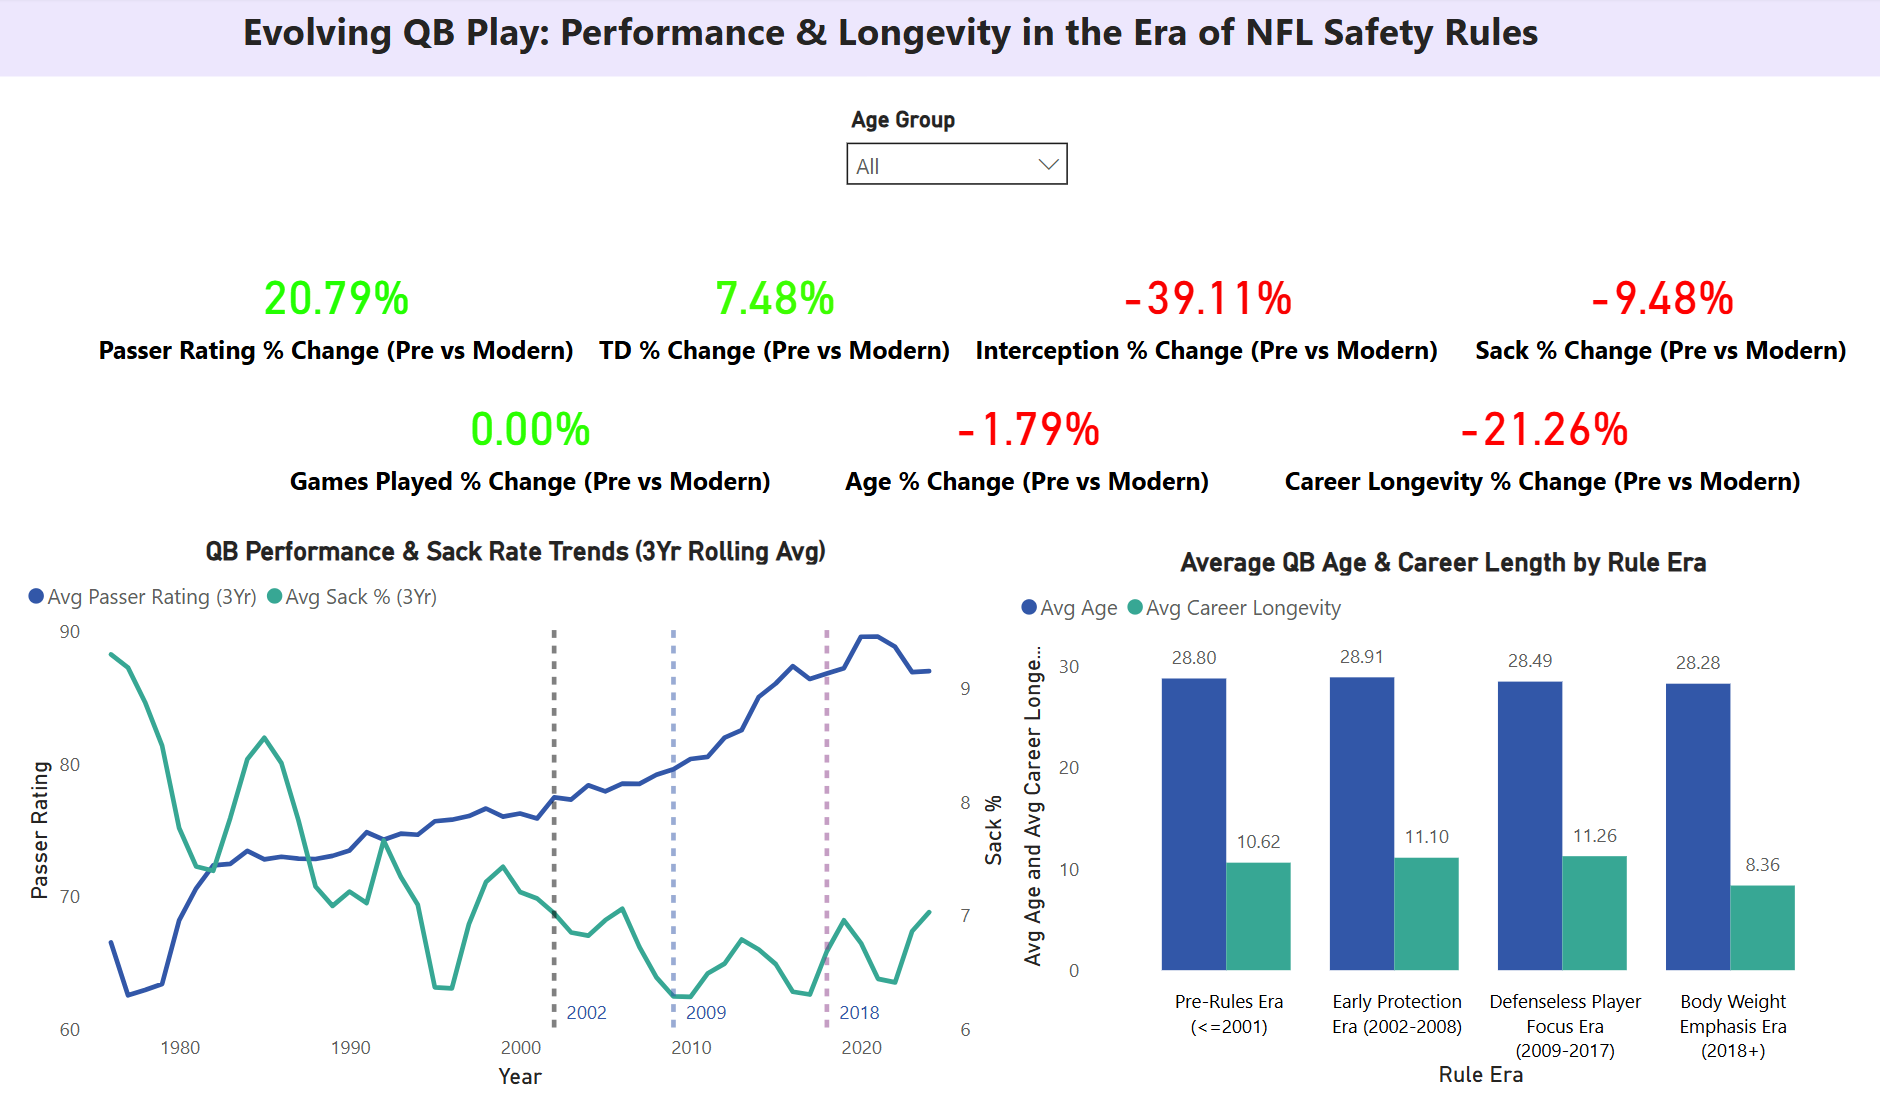

The dashboard page shown, as its layout file describes it:
{"tool":"powerbi","page":{"name":"Overview Summary","canvas":[1280,720],"ordinal":0},"visuals":[{"type":"textbox","box":[0,0,1280,50.7],"z":0},{"type":"card","fields":{"Values":["pass_cleaned.Passer Rating % Change (Pre vs Modern)"]},"box":[126.4,159.9,316,83.4],"z":1000},{"type":"card","fields":{"Values":["pass_cleaned.Sack % Change (Pre vs Modern)"]},"box":[997.1,159.8,275.2,83.4],"z":2000},{"type":"card","fields":{"Values":["pass_cleaned.Interception % Change (Pre vs Modern)"]},"box":[688.4,159.8,308.6,83.4],"z":3000},{"type":"card","fields":{"Values":["pass_cleaned.Age % Change (Pre vs Modern)"]},"box":[577.1,243.4,302.1,84.1],"z":4000},{"type":"card","fields":{"Values":["pass_cleaned.Games Played % Change (Pre vs Modern)"]},"box":[245.9,243.4,326.8,84.1],"z":5000},{"type":"card","fields":{"Values":["pass_cleaned.TD % Change (Pre vs Modern)"]},"box":[442.7,159.8,245.7,83.4],"z":6000},{"type":"lineChart","title":"QB Performance & Sack Rate Trends (3Yr Rolling Avg)","fields":{"Category":["pass_cleaned.Year"],"Y":["pass_cleaned.Rolling 3yr Avg Passer Rating"],"Y2":["pass_cleaned.Rolling 3yr Avg Sack %"]},"box":[80.6,345.1,637,360.3],"z":7000},{"type":"clusteredColumnChart","title":"Average QB Age & Career Length by Rule Era","fields":{"Category":["pass_cleaned.Rule_Era"],"Y":["pass_cleaned.Avg Age","pass_cleaned.Avg Career Longevity"]},"box":[718.1,352.5,554,352.5],"z":8000},{"type":"card","fields":{"Values":["pass_cleaned.Career Longevity % Change (Pre vs Modern)"]},"box":[879.2,243.4,359.7,84.1],"z":9000},{"type":"slicer","fields":{"Values":["pass_cleaned.Age_Group"]},"box":[601.8,65.4,162.3,75.7],"z":10000}]}

Visuals, with their boxes on the page's 1280x720 design canvas (x1, y1, x2, y2). These are canvas units, not pixel positions in the 1880x1101 screenshot, which may show the page scaled, cropped or inside an application window:
textbox: bbox=[0, 0, 1280, 51]
card - pass_cleaned.Passer Rating % Change (Pre vs Modern): bbox=[126, 160, 442, 243]
card - pass_cleaned.Sack % Change (Pre vs Modern): bbox=[997, 160, 1272, 243]
card - pass_cleaned.Interception % Change (Pre vs Modern): bbox=[688, 160, 997, 243]
card - pass_cleaned.Age % Change (Pre vs Modern): bbox=[577, 243, 879, 328]
card - pass_cleaned.Games Played % Change (Pre vs Modern): bbox=[246, 243, 573, 328]
card - pass_cleaned.TD % Change (Pre vs Modern): bbox=[443, 160, 688, 243]
"QB Performance & Sack Rate Trends (3Yr Rolling Avg)" lineChart: bbox=[81, 345, 718, 705]
"Average QB Age & Career Length by Rule Era" clusteredColumnChart: bbox=[718, 352, 1272, 705]
card - pass_cleaned.Career Longevity % Change (Pre vs Modern): bbox=[879, 243, 1239, 328]
slicer - pass_cleaned.Age_Group: bbox=[602, 65, 764, 141]
